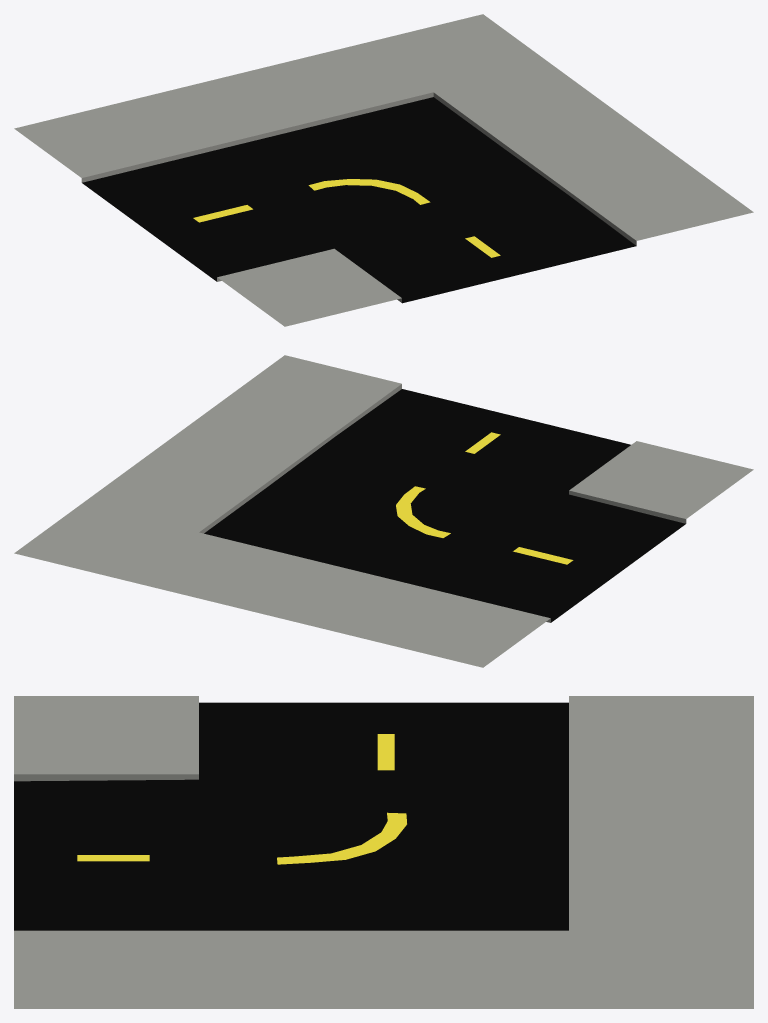
Rendered from lp-esquina.gltf.
The picture shows the model from 3 angles, top to bottom: view 1: azimuth 30°, elevation 25°; view 2: azimuth 150°, elevation 25°; view 3: azimuth 270°, elevation 25°; orthographic projection. The views are drawn at different scales.
Parts seen in each view (by area): view 1: esquina; view 2: esquina; view 3: esquina.
Part boxes in pixels (bbox=[...]): esquina: bbox=[14, 14, 753, 326]; esquina: bbox=[14, 355, 753, 667]; esquina: bbox=[14, 696, 753, 1008].
Bounding box in the file's own units: 8 × 0.0835 × 8.
1 material, 1 textured.
